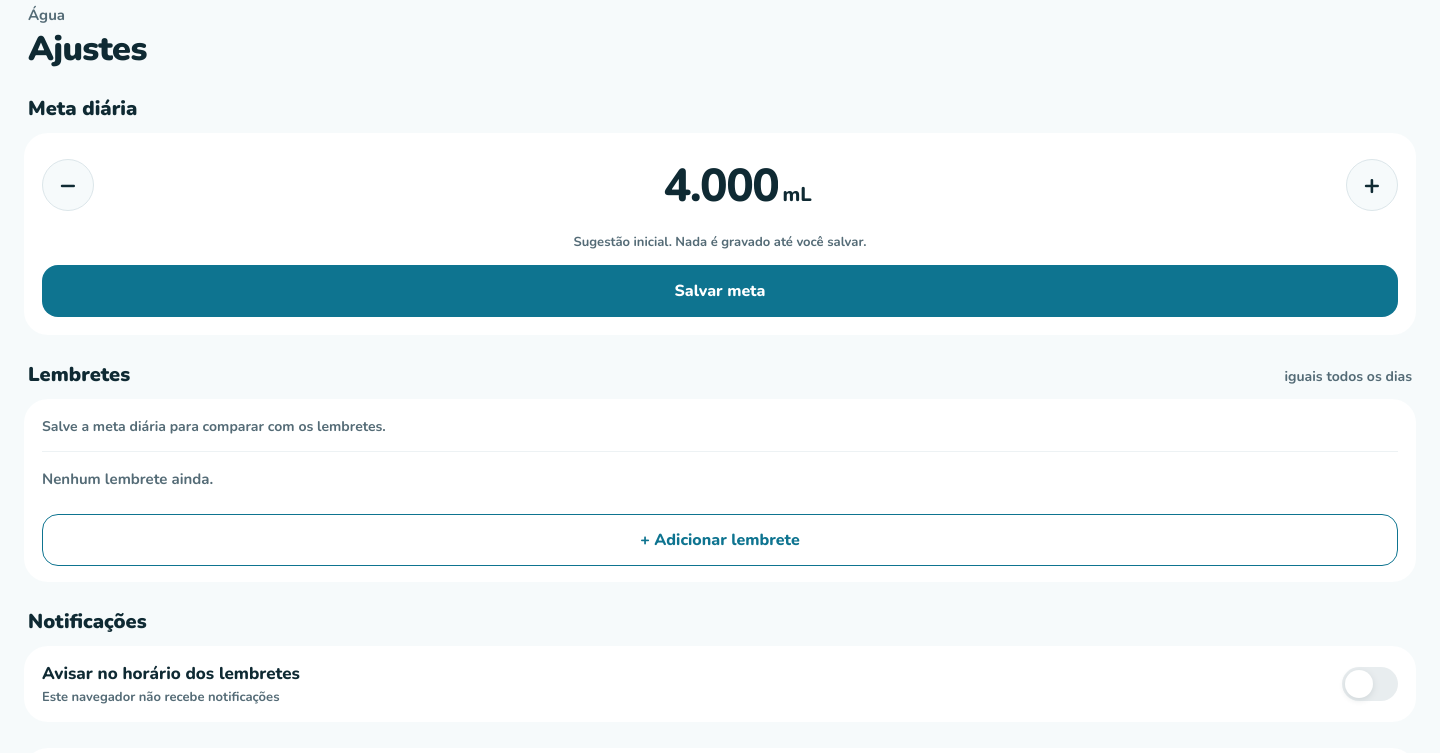
Test case: WaterSettingsPage (Ajustes) › meta fora dos limites não vai ao servidor
Step 1. Replace the text in the field named "Meta diária em mL" with "200" → (703, 185), box [628,150,778,220]
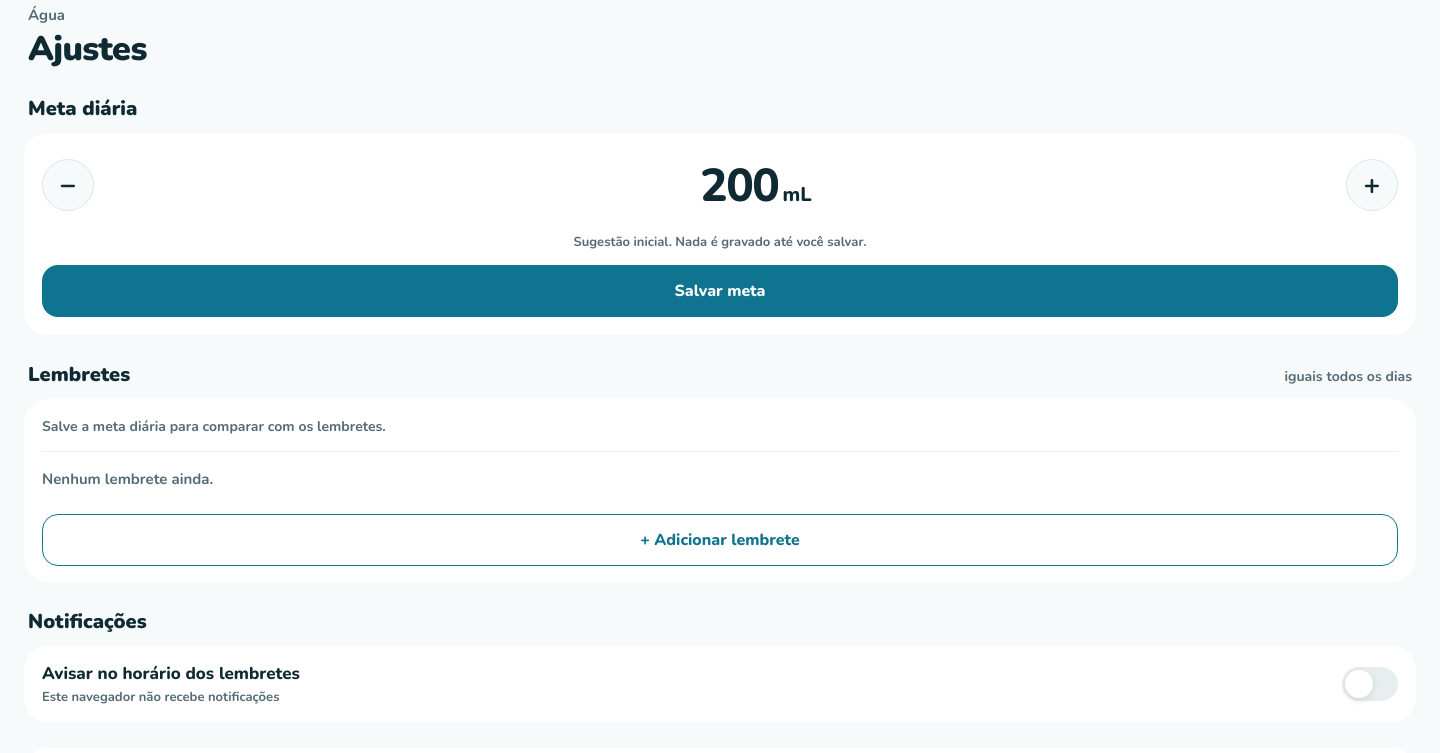
Step 2. Click the button "Salvar meta" → click(720, 291), box [42,265,1398,317]
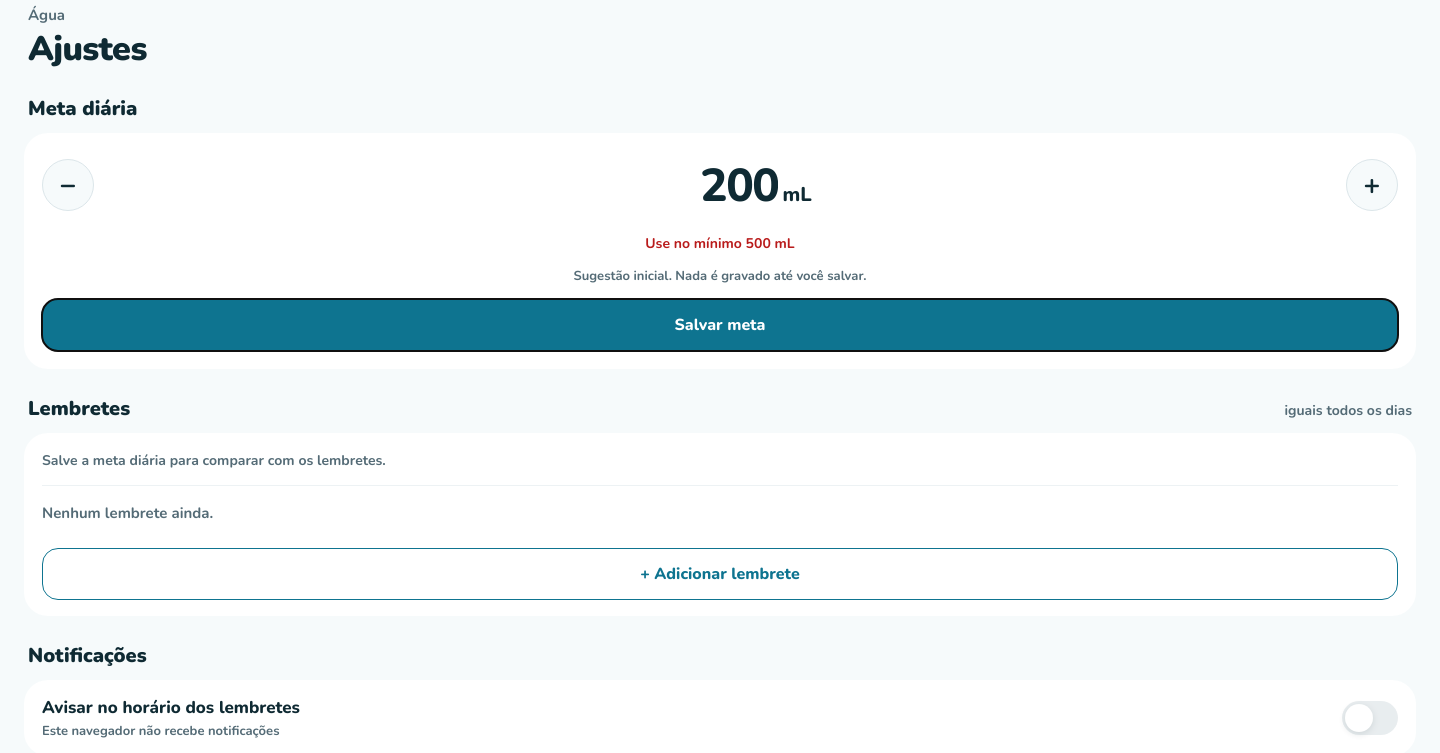
Result: the message reads "Use no mínimo 500 mL" at [645,234,795,252]
